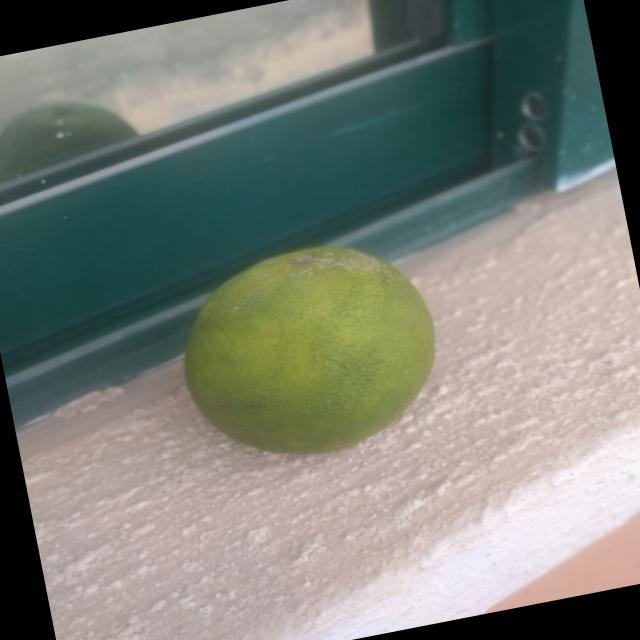agrume: (154, 210, 485, 491)
